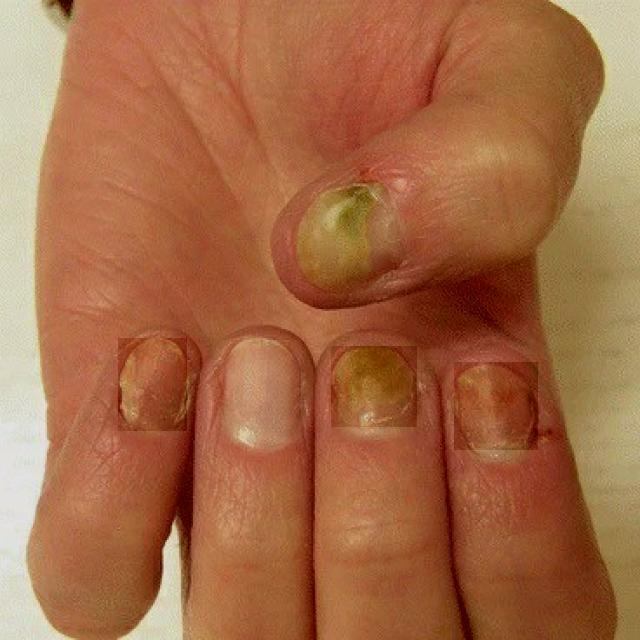diabetes: (292, 184, 404, 296), (455, 363, 538, 450), (332, 347, 417, 427), (118, 339, 187, 431)
sehat: (222, 340, 302, 443)
